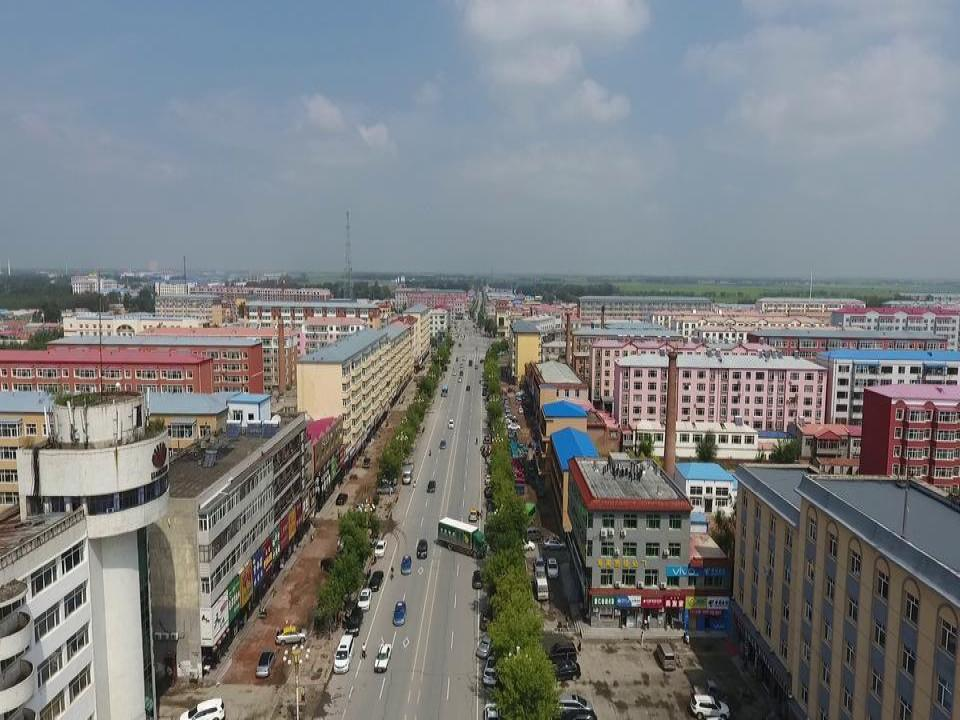bus: (441, 384, 448, 397), (468, 358, 472, 366)
car: (546, 693, 593, 718), (689, 693, 730, 720), (179, 697, 225, 720), (538, 641, 577, 664), (545, 660, 581, 681), (275, 624, 307, 645), (255, 648, 276, 677), (374, 641, 392, 672), (482, 656, 501, 685), (476, 635, 499, 657), (320, 556, 340, 575), (368, 569, 384, 592), (357, 588, 372, 612), (542, 537, 566, 551), (479, 607, 494, 629), (393, 600, 406, 625), (511, 538, 535, 550), (546, 557, 559, 579), (484, 701, 499, 720), (373, 539, 387, 557), (416, 538, 428, 558), (472, 569, 484, 588), (401, 554, 412, 574), (533, 556, 545, 573), (376, 484, 394, 493), (336, 492, 348, 505), (503, 415, 518, 424), (469, 508, 479, 521), (426, 480, 436, 492), (362, 456, 370, 468), (500, 418, 512, 426), (507, 423, 521, 429), (439, 439, 446, 448), (448, 419, 454, 428), (457, 374, 462, 382), (452, 369, 457, 375), (466, 384, 470, 391), (482, 389, 486, 396), (474, 364, 479, 369), (459, 371, 463, 377), (459, 363, 463, 368), (462, 355, 465, 360), (455, 356, 458, 361)
truck: (437, 516, 487, 559), (534, 571, 549, 600)
van: (333, 635, 354, 673), (342, 607, 364, 636), (656, 642, 675, 670), (524, 527, 545, 540), (402, 465, 413, 484)
